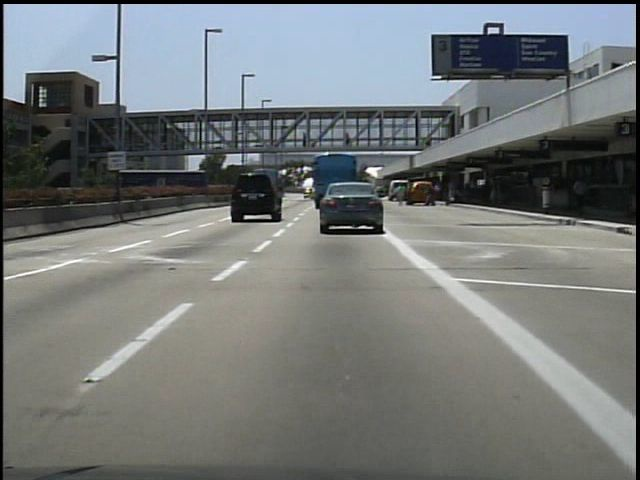person: (572, 172, 592, 218), (424, 178, 441, 210), (393, 180, 411, 209), (342, 130, 355, 152), (300, 128, 313, 148)
